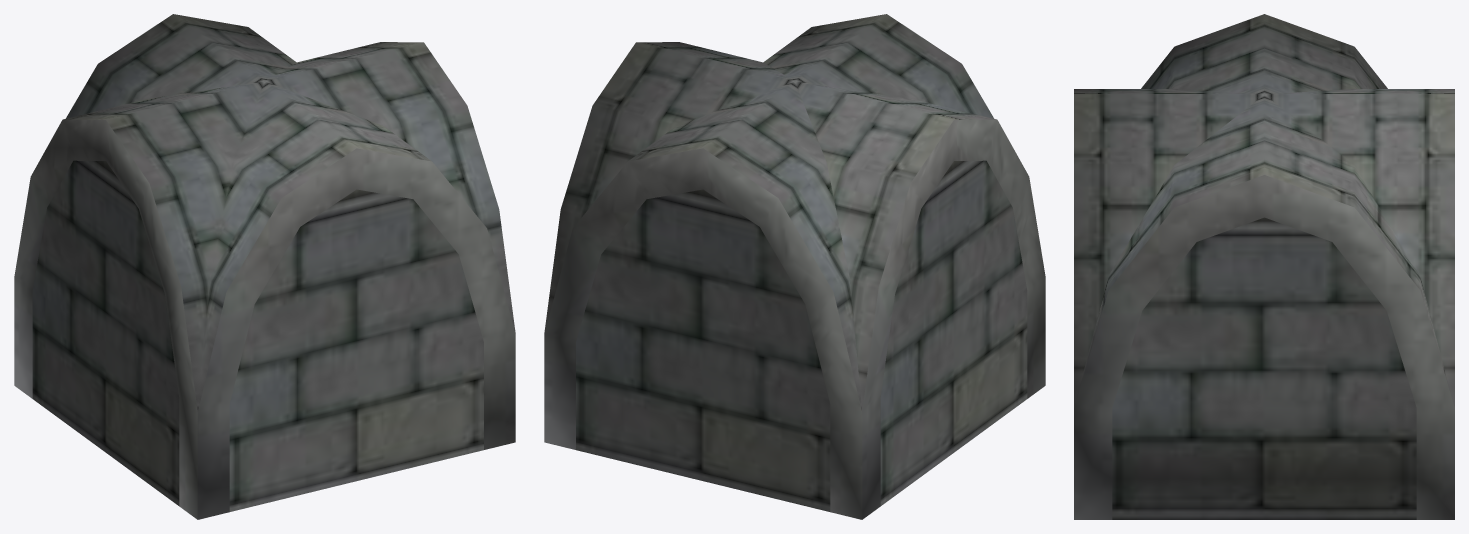
The model's file is sd_vault_ceiling_small_06.glb.
3 renders of one model, left to right at view 1: azimuth 30°, elevation 25°; view 2: azimuth 150°, elevation 25°; view 3: azimuth 270°, elevation 25°, orthographic. The views are drawn at different scales.
Visible parts, largest first — view 1: vault_ceiling_small_06; view 2: vault_ceiling_small_06; view 3: vault_ceiling_small_06.
Part boxes in pixels (x1,y1,x2,y2): vault_ceiling_small_06: (14,14,515,519); vault_ceiling_small_06: (544,14,1045,519); vault_ceiling_small_06: (1074,14,1454,519).
Size of the model in its own units: 2 by 2 by 2.
Materials: 1 (1 with a texture image).
